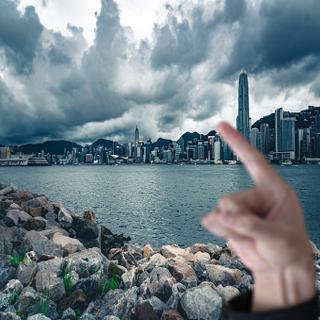IRRITATED: (195, 118, 314, 277)
